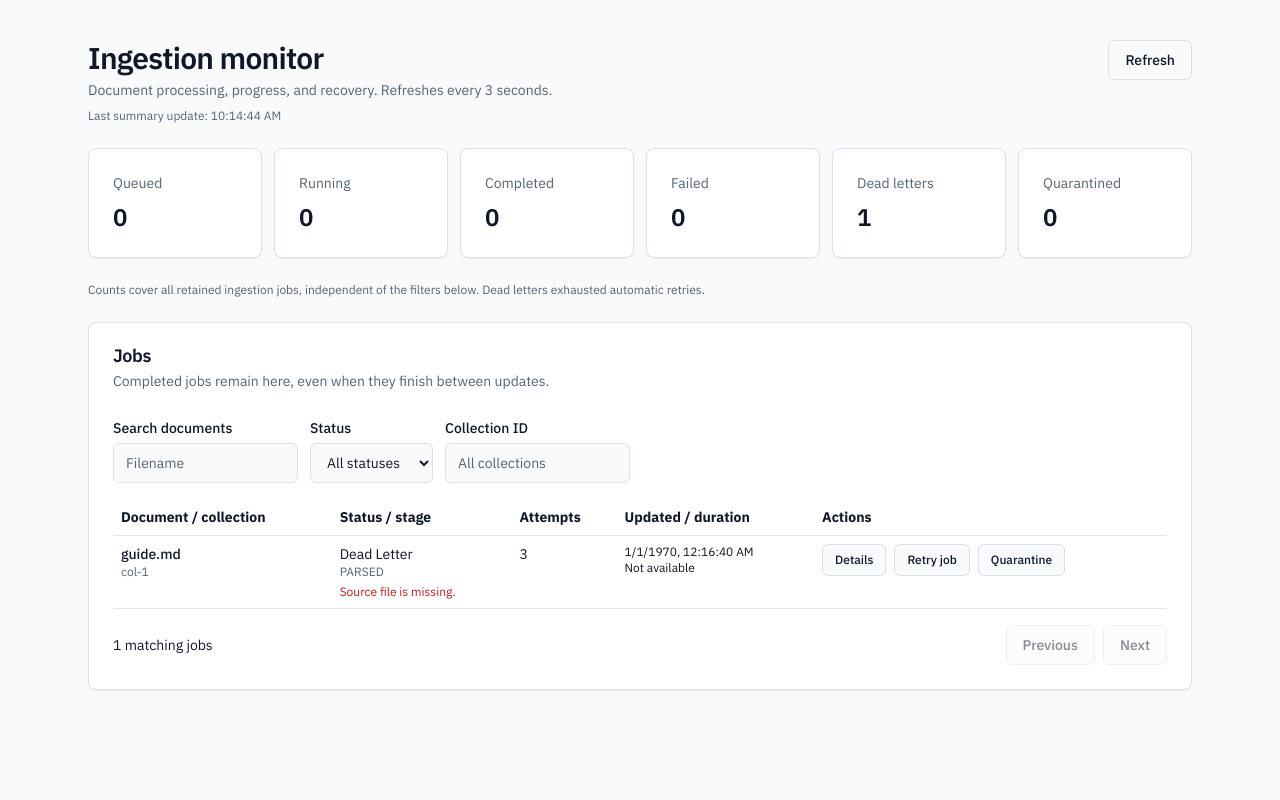
Test: shows stale data explicitly after a previously successful refresh
Expected: the text "guide.md" is shown, [121,545,181,563]
Click the button "Refresh": [1150, 60] box [1108,40,1192,80]
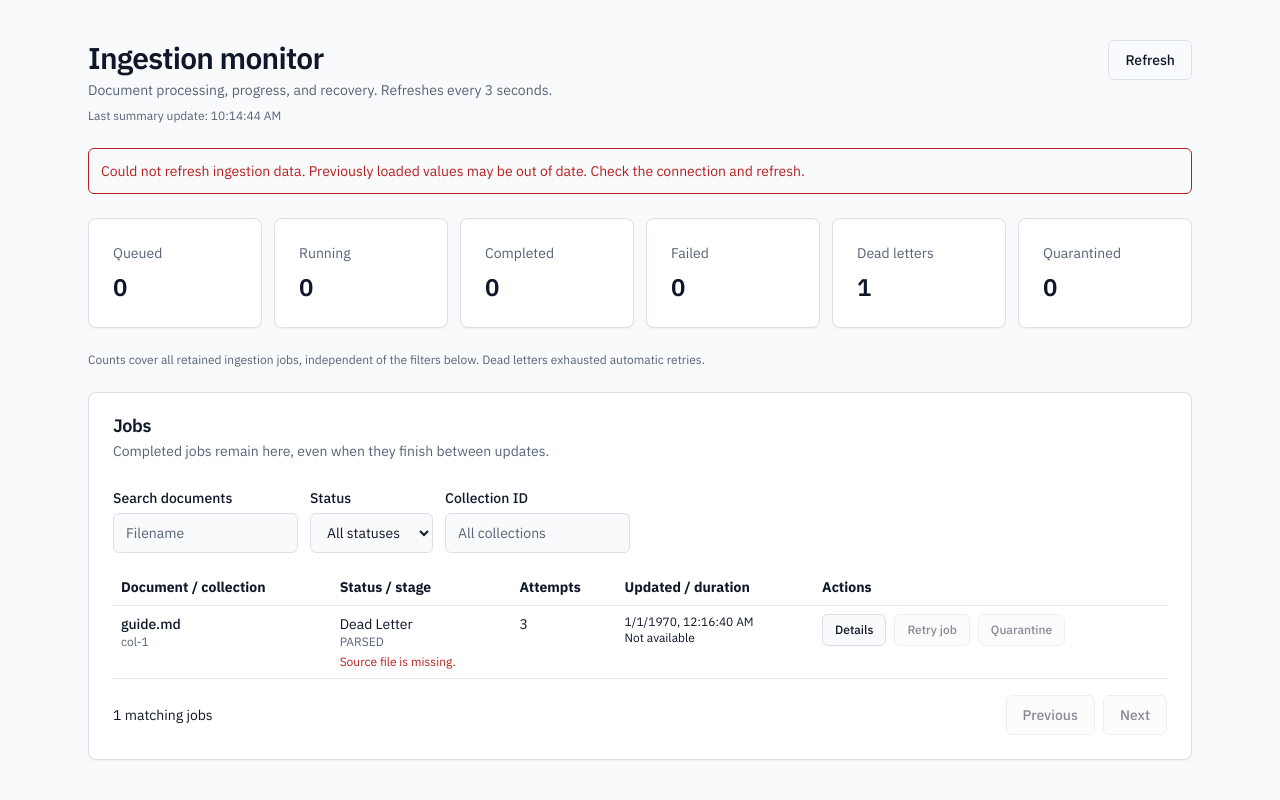
Expected: the text "guide.md" is shown, [121,615,181,633]
Expected: the message shows "out of date", [101,162,805,180]
Expected: the button "Retry job" is disabled, [894,614,970,646]
